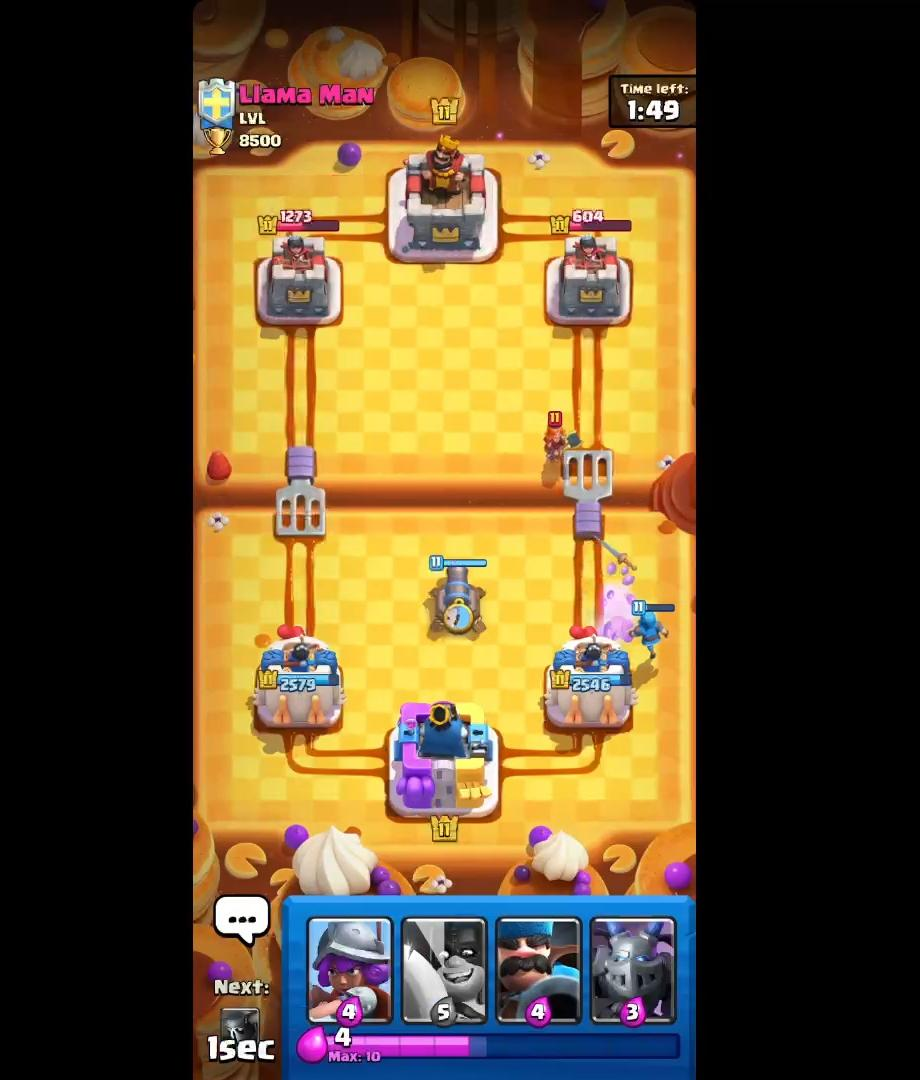Valkyrie: (531, 397, 579, 473)
